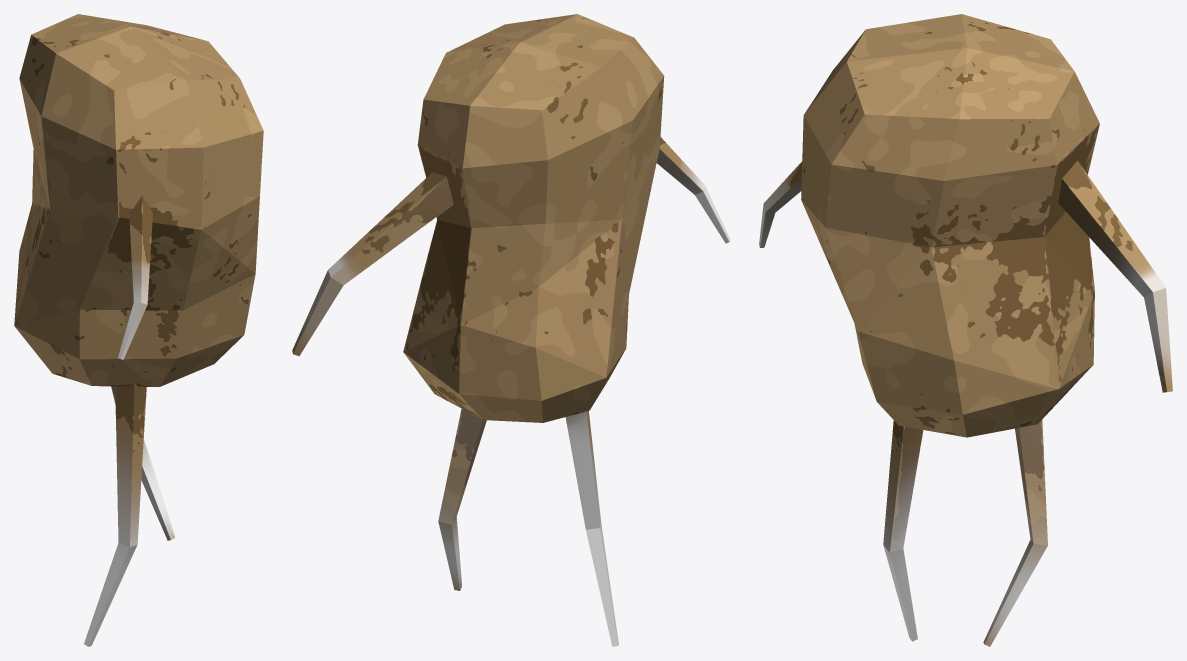
File: patate_3.glb
3 renders of one model, left to right at view 1: azimuth 30°, elevation 25°; view 2: azimuth 150°, elevation 25°; view 3: azimuth 270°, elevation 25°, orthographic. The views are drawn at different scales.
Visible parts, largest first — view 1: corps, jambes.002; view 2: corps, jambes.002; view 3: corps, jambes.002.
Part boxes in pixels (bbox=[...]): corps: bbox=[14, 14, 263, 386]; jambes.002: bbox=[84, 195, 175, 646]; corps: bbox=[403, 14, 664, 422]; jambes.002: bbox=[292, 137, 730, 646]; corps: bbox=[801, 14, 1099, 437]; jambes.002: bbox=[759, 160, 1172, 646].
Size of the model in its own units: 0.5533 by 1.32 by 0.7896.
Materials: 2 (2 with a texture image).
